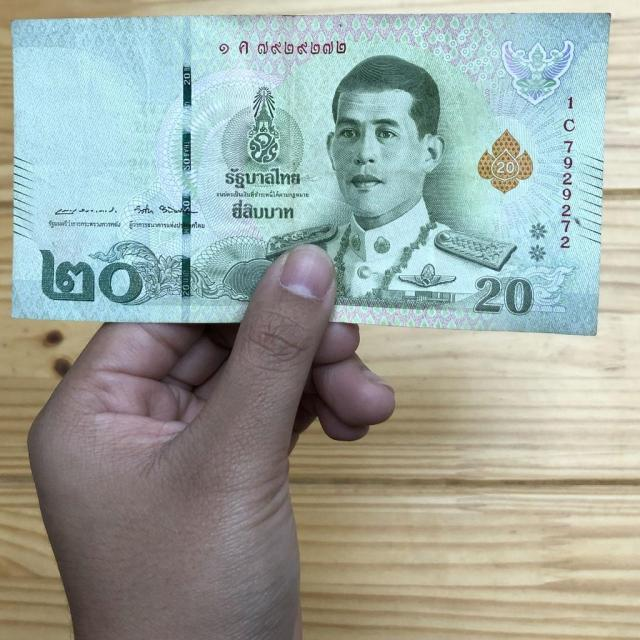THAI20: (12, 14, 609, 335)
